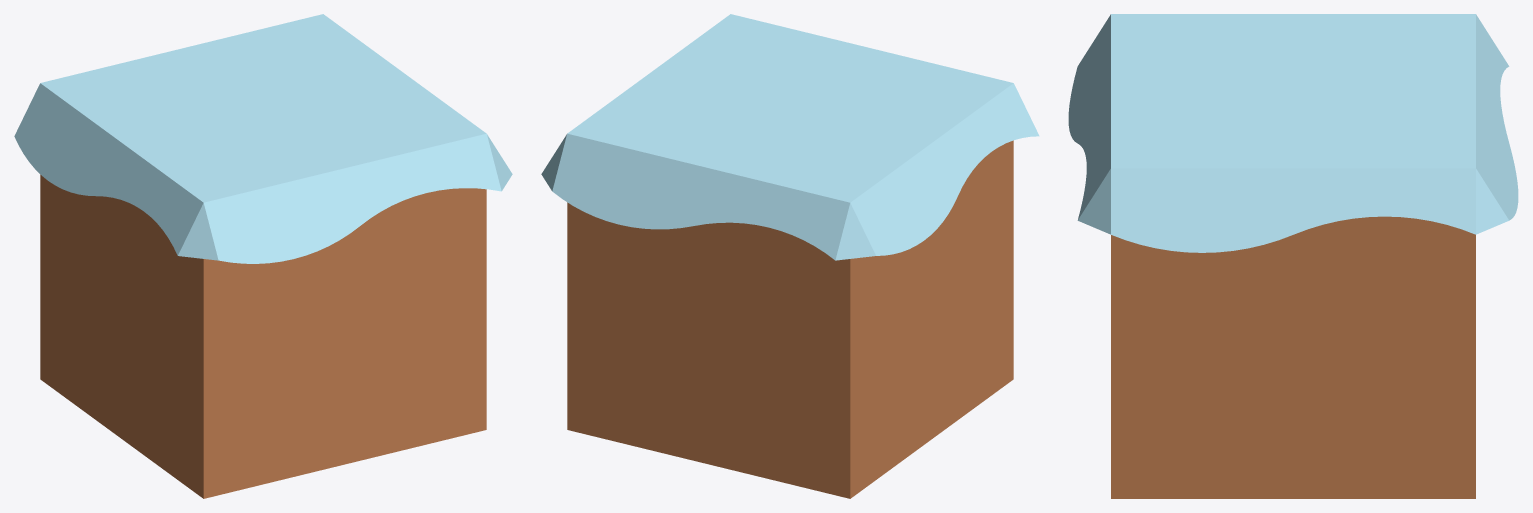
Rendered from blockSnow.dae.
3 renders of one model, left to right at view 1: azimuth 30°, elevation 25°; view 2: azimuth 150°, elevation 25°; view 3: azimuth 270°, elevation 25°, orthographic. The views are drawn at different scales.
Visible parts, largest first — view 1: blockSnow; view 2: blockSnow; view 3: blockSnow.
Boxes of the visible parts, box(x1,y1,x2,y2) form: blockSnow: box(14, 14, 512, 498); blockSnow: box(541, 14, 1039, 498); blockSnow: box(1068, 14, 1518, 498).
Bounding box in the file's own units: 1.23 × 1 × 1.23.
